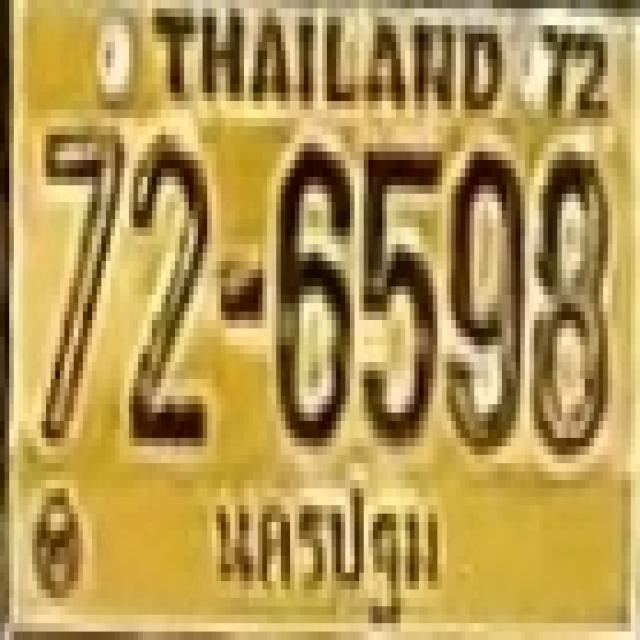2: (125, 135, 208, 438)
5: (359, 143, 438, 438)
6: (272, 135, 350, 438)
7: (39, 118, 122, 438)
8: (529, 147, 608, 450)
9: (442, 143, 520, 446)
NPT: (198, 461, 446, 634)
